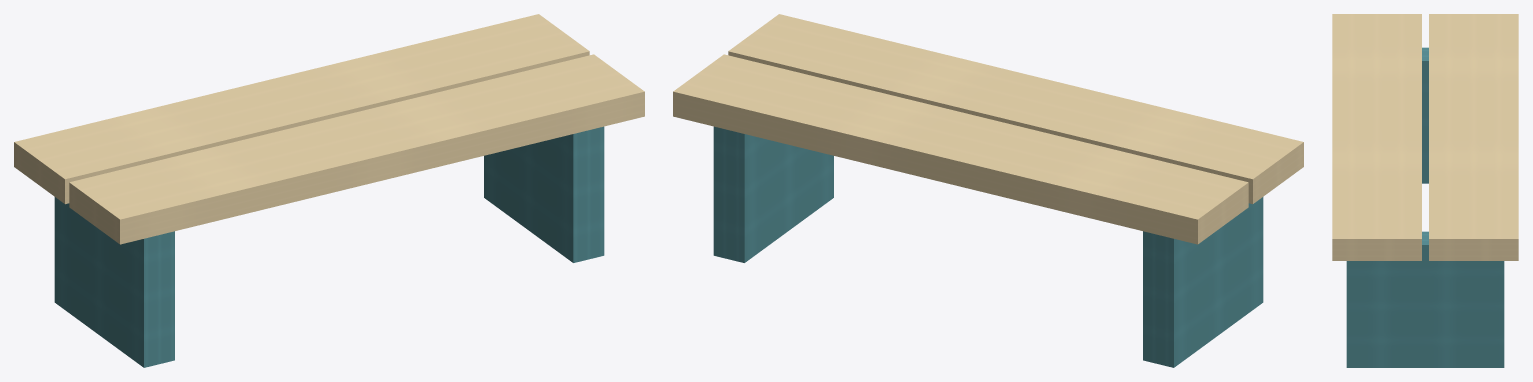
Rendered from atlas100-atompunk-util03.lod1.glb.
3 renders of one model, left to right at view 1: azimuth 30°, elevation 25°; view 2: azimuth 150°, elevation 25°; view 3: azimuth 270°, elevation 25°, orthographic. The views are drawn at different scales.
Parts seen in each view (by area): view 1: atlas100-atompunk-util03:part-004, atlas100-atompunk-util03:part-002, atlas100-atompunk-util03:part-000, atlas100-atompunk-util03:part-001; view 2: atlas100-atompunk-util03:part-002, atlas100-atompunk-util03:part-004, atlas100-atompunk-util03:part-000, atlas100-atompunk-util03:part-001; view 3: atlas100-atompunk-util03:part-002, atlas100-atompunk-util03:part-004, atlas100-atompunk-util03:part-001, atlas100-atompunk-util03:part-000.
Boxes of the visible parts, x1,y1,x2,y2 form: atlas100-atompunk-util03:part-004: (69, 54, 644, 244); atlas100-atompunk-util03:part-002: (14, 14, 589, 204); atlas100-atompunk-util03:part-000: (54, 197, 174, 367); atlas100-atompunk-util03:part-001: (484, 126, 604, 262); atlas100-atompunk-util03:part-002: (673, 54, 1248, 244); atlas100-atompunk-util03:part-004: (728, 14, 1303, 204); atlas100-atompunk-util03:part-000: (1143, 197, 1263, 367); atlas100-atompunk-util03:part-001: (713, 126, 833, 262); atlas100-atompunk-util03:part-002: (1429, 14, 1518, 260); atlas100-atompunk-util03:part-004: (1332, 14, 1421, 260); atlas100-atompunk-util03:part-001: (1346, 231, 1504, 367); atlas100-atompunk-util03:part-000: (1422, 47, 1428, 183).
Size of the model in its own units: 2.3 by 0.6799 by 0.8054.
2 materials, 2 textured.
